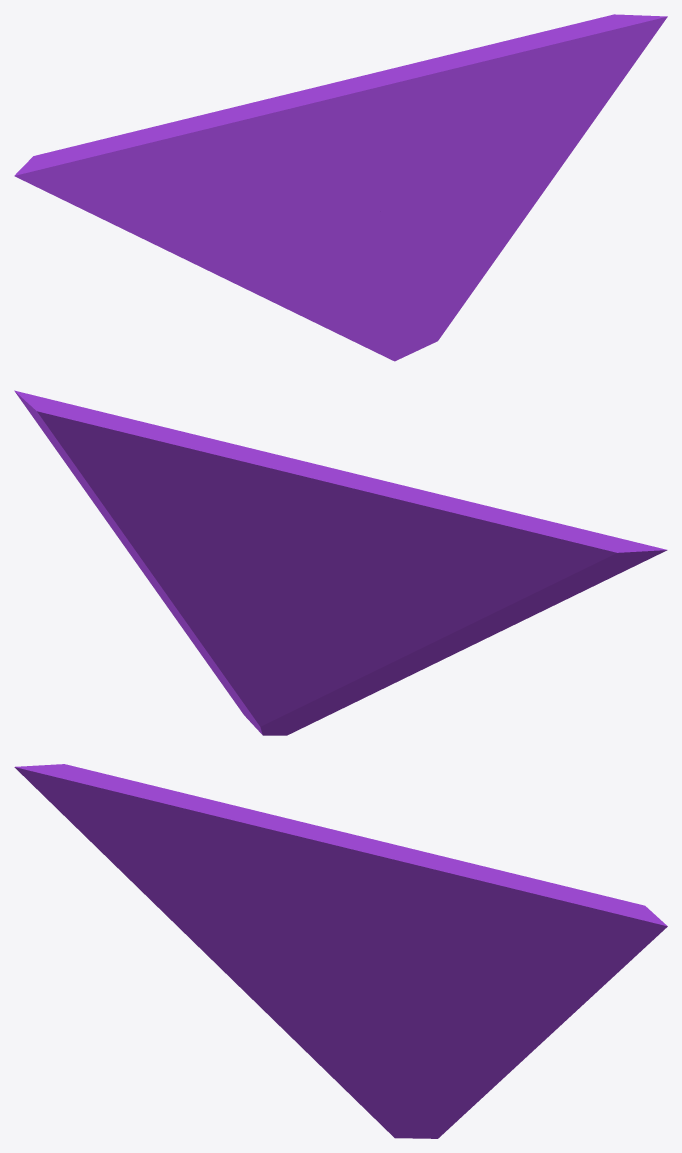
The model's file is Glass_6_6_chunks.fbx.
The picture shows the model from 3 angles, top to bottom: view 1: azimuth 30°, elevation 25°; view 2: azimuth 150°, elevation 25°; view 3: azimuth 330°, elevation 25°; orthographic projection.
Visible parts, largest first — view 1: Glass_6_6_2, Glass_6_6_3, Glass_6_6_1; view 2: Glass_6_6_2, Glass_6_6_3, Glass_6_6_1, Glass_6_6_0; view 3: Glass_6_6_2, Glass_6_6_3, Glass_6_6_1.
Part boxes in pixels (x1,y1,x2,y2): Glass_6_6_2: (14,71,401,296); Glass_6_6_3: (379,14,667,279); Glass_6_6_1: (262,221,480,361); Glass_6_6_2: (270,455,667,670); Glass_6_6_3: (14,390,288,659); Glass_6_6_1: (201,628,418,735); Glass_6_6_0: (266,580,390,675); Glass_6_6_2: (14,764,411,1008); Glass_6_6_3: (379,849,667,1098); Glass_6_6_1: (262,989,480,1138).
Size of the model in its own units: 659 by 268 by 27.2.
